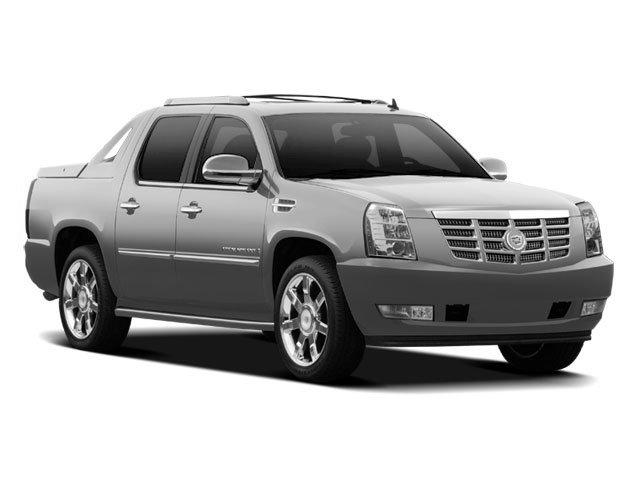car: (18, 90, 618, 381)
